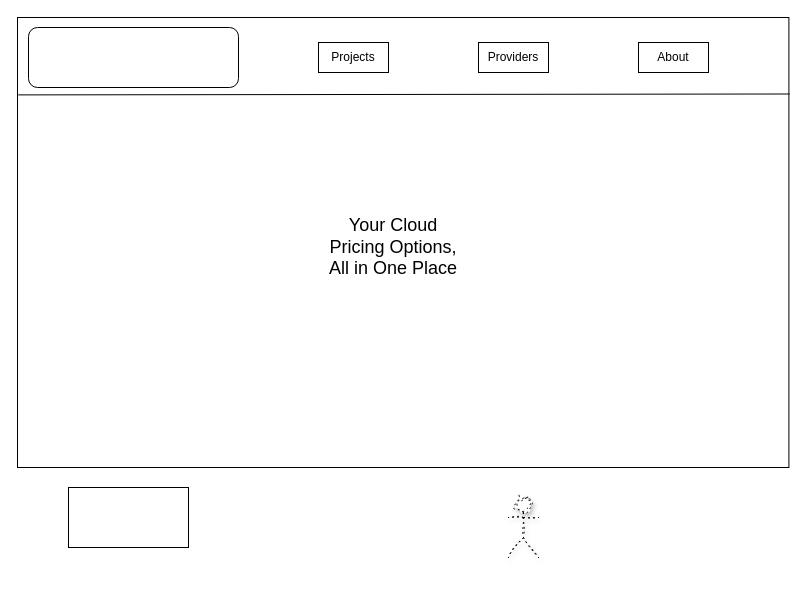
This 809x596 diagram has some shape labels left out. The centre of each missing label's shape, as x and y in pixels:
"Actor" goes at (x=524, y=528).
"Banner Logo" goes at (x=133, y=57).
